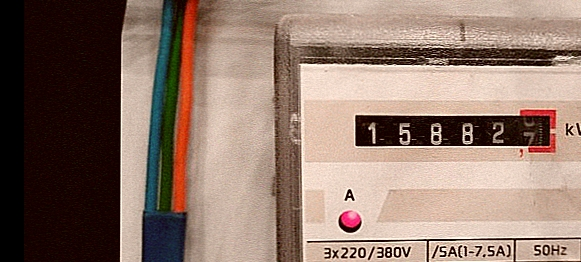1: (366, 118, 378, 144)
2: (490, 119, 506, 144)
5: (397, 120, 411, 146)
7: (521, 128, 536, 145)
8: (428, 120, 444, 145), (460, 120, 475, 145)
screen: (344, 102, 564, 161)
